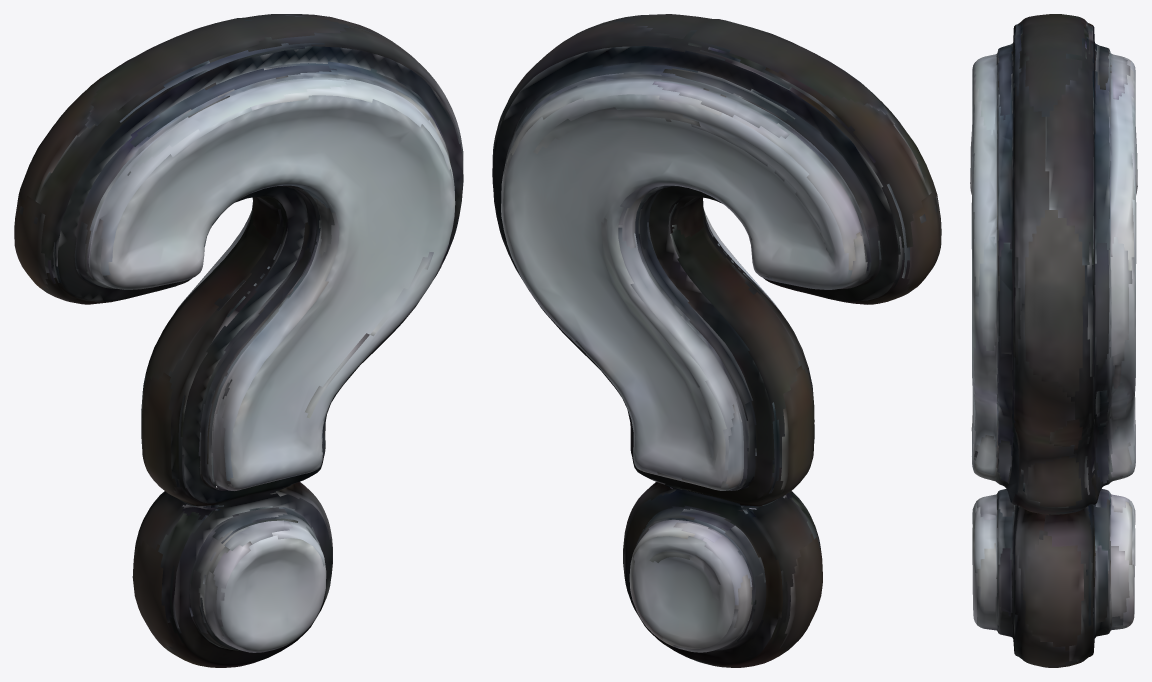
Rendered from question.glb.
3 renders of one model, left to right at view 1: azimuth 30°, elevation 25°; view 2: azimuth 150°, elevation 25°; view 3: azimuth 270°, elevation 25°, orthographic. The views are drawn at different scales.
Parts seen in each view (by area): view 1: tripo_node_939601bd; view 2: tripo_node_939601bd; view 3: tripo_node_939601bd.
Part boxes in pixels (x1,y1,x2,y2): tripo_node_939601bd: (14, 14, 463, 667); tripo_node_939601bd: (492, 14, 941, 667); tripo_node_939601bd: (970, 14, 1137, 667).
Size of the model in its own units: 69.68 by 97.95 by 24.31.
1 material, 1 textured.
